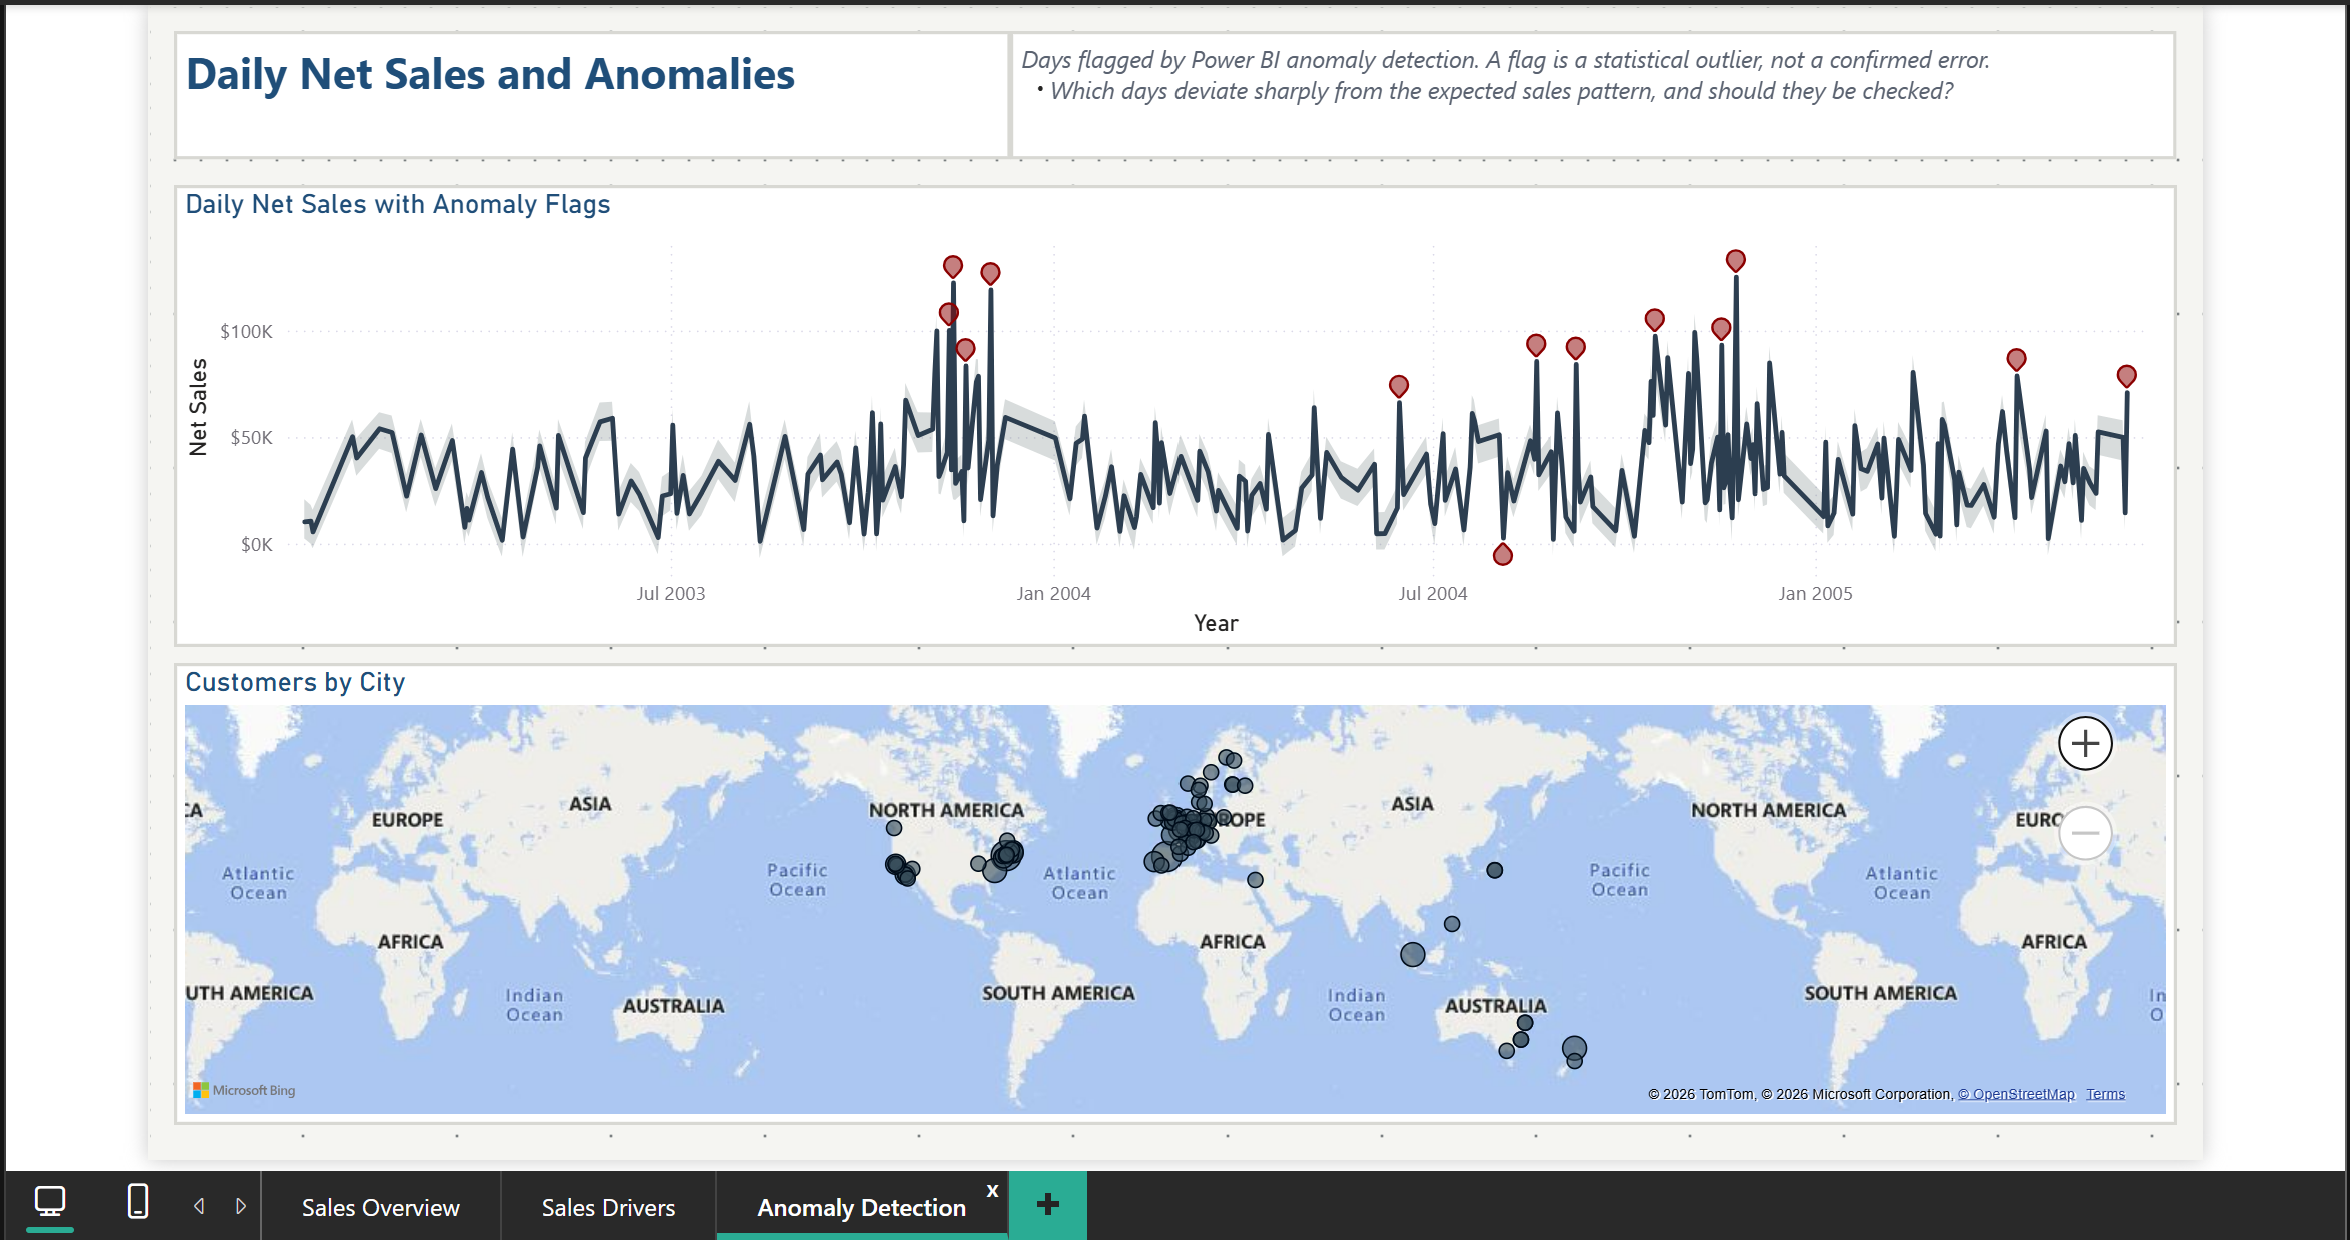

The page's visual inventory and layout, read from the dashboard file:
{"tool":"powerbi","page":{"name":"Anomaly Detection","canvas":[1280,720],"ordinal":2},"visuals":[{"type":"textbox","box":[16,16,521.3,80],"z":0,"group":"g1"},{"type":"lineChart","title":"Daily Net Sales with Anomaly Flags","fields":{"Category":["orders.orderDate.Variation.Date Hierarchy.Year","orders.orderDate.Variation.Date Hierarchy.Quarter","orders.orderDate.Variation.Date Hierarchy.Month","orders.orderDate.Variation.Date Hierarchy.Day"],"Y":["_Measures.Net Sales"]},"box":[16,112,1248,288],"z":0},{"type":"group","id":"g1","title":"Group 2","box":[16,16,1248,80],"z":1000},{"type":"textbox","box":[537.3,16,726.7,80],"z":1000,"group":"g1"},{"type":"map","title":"Customers by City","fields":{"Category":["customer.city"],"Size":["CountNonNull(customer.customerNumber)"]},"box":[16,410,1248,288],"z":2000}]}

Visuals, with their boxes on the page's 1280x720 design canvas (x1, y1, x2, y2). These are canvas units, not pixel positions in the 2350x1240 screenshot, which may show the page scaled, cropped or inside an application window:
textbox: (16, 16, 537, 96)
"Daily Net Sales with Anomaly Flags" lineChart: (16, 112, 1264, 400)
"Group 2" group: (16, 16, 1264, 96)
textbox: (537, 16, 1264, 96)
"Customers by City" map: (16, 410, 1264, 698)
